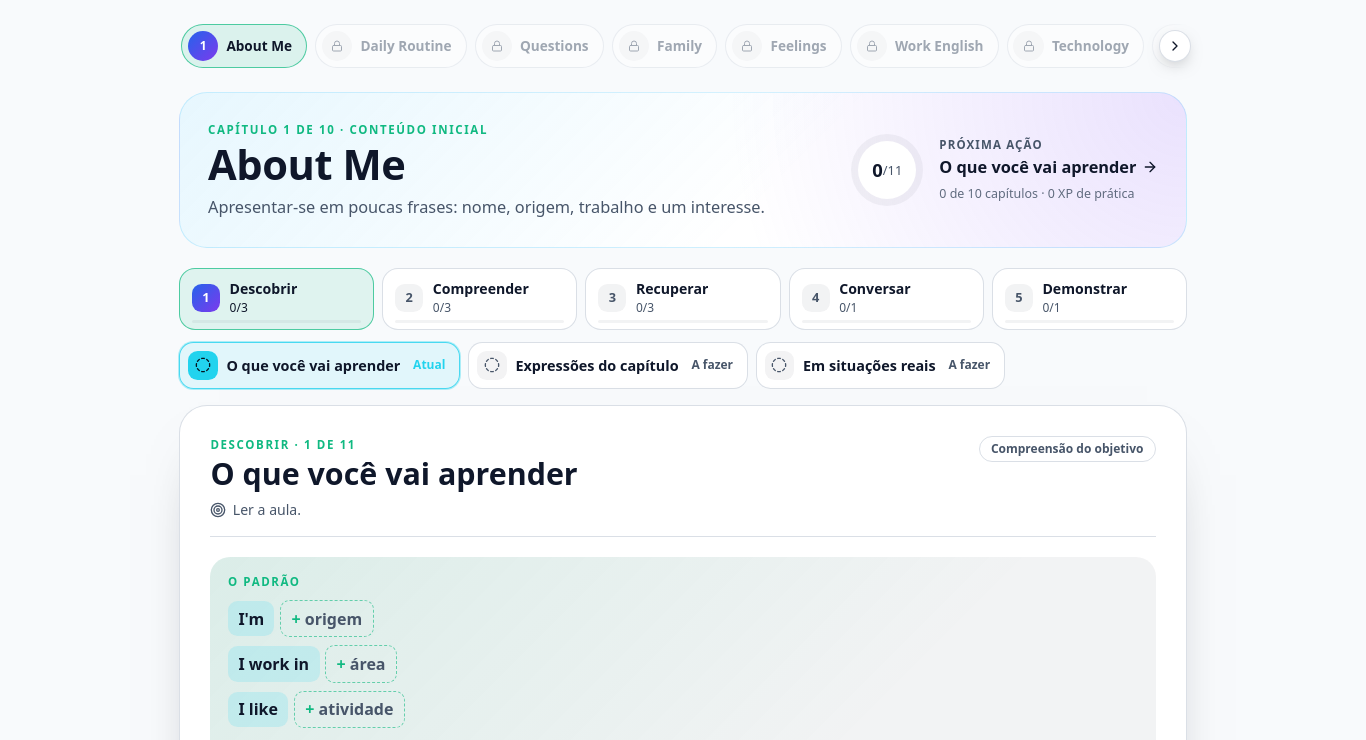
Journey 2.1 navigation and completion › shows the five phases with progress and readable activity names (no tiny dots)
Check: the button "1 Descobrir 0/3" is shown, box [179,268,374,330]
Check: the button "2 Compreender 0/3" is shown, box [382,268,577,330]
Step 1. Click the button "3 Recuperar 0/3" → x=683, y=299, box [585,268,781,330]
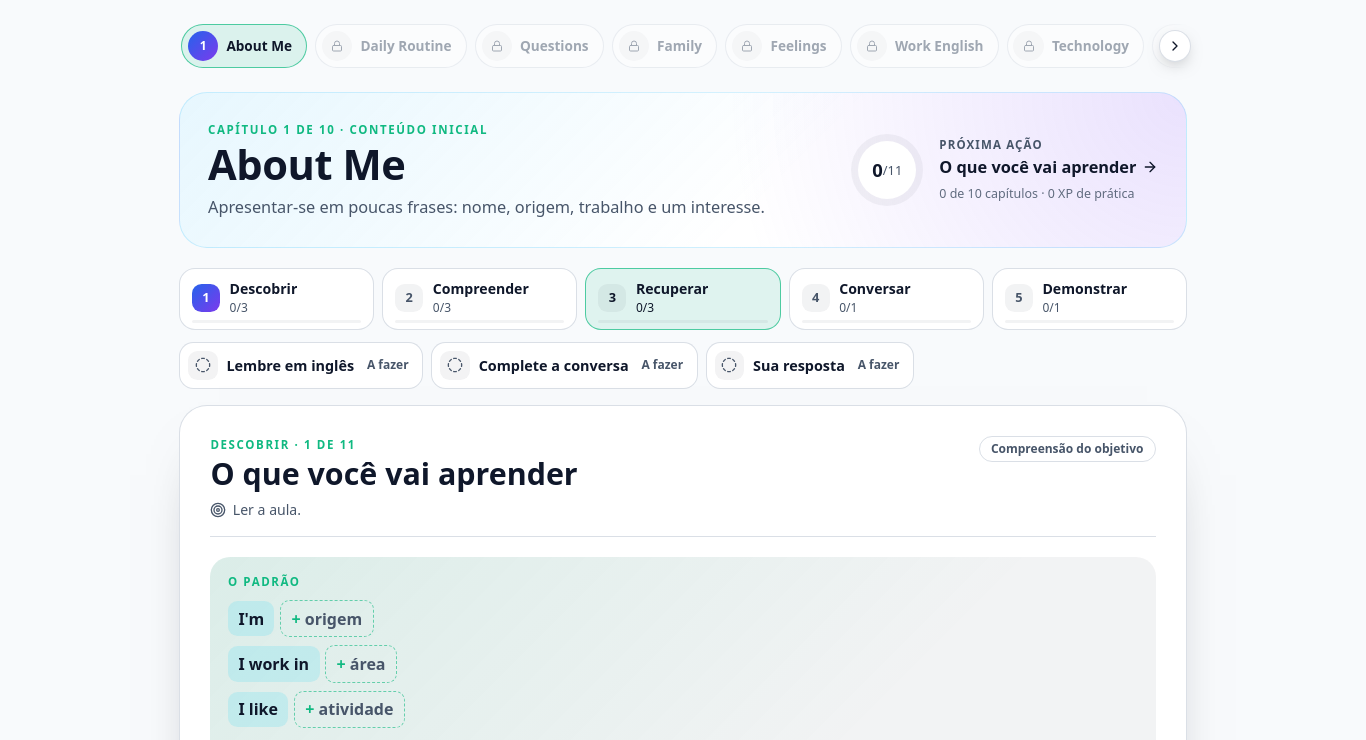
Step 2. Click the button "Complete a conversa A fazer" → x=564, y=365, box [431,342,698,388]
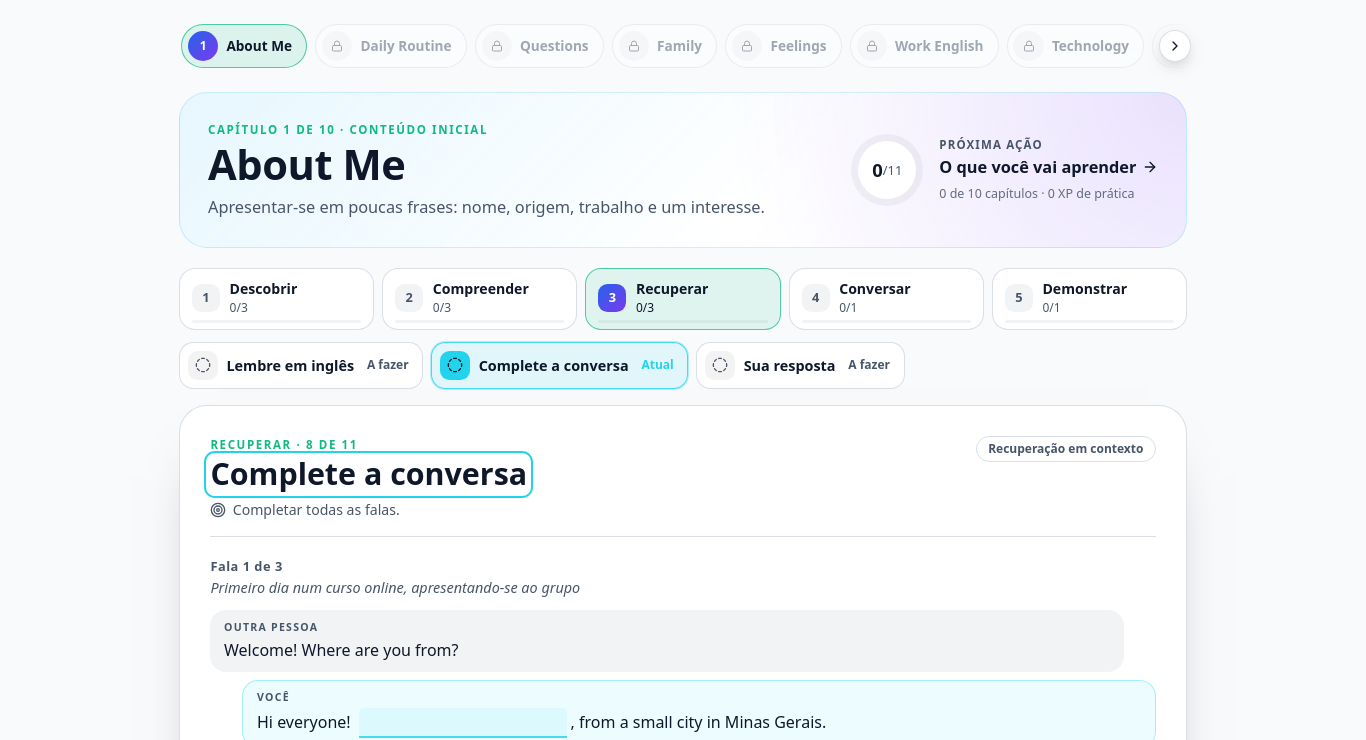
Check: the heading "Complete a conversa" is shown, box [210,457,527,492]
